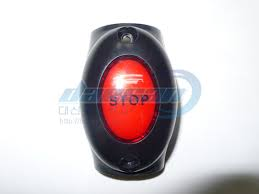bell: (79, 21, 183, 182)
